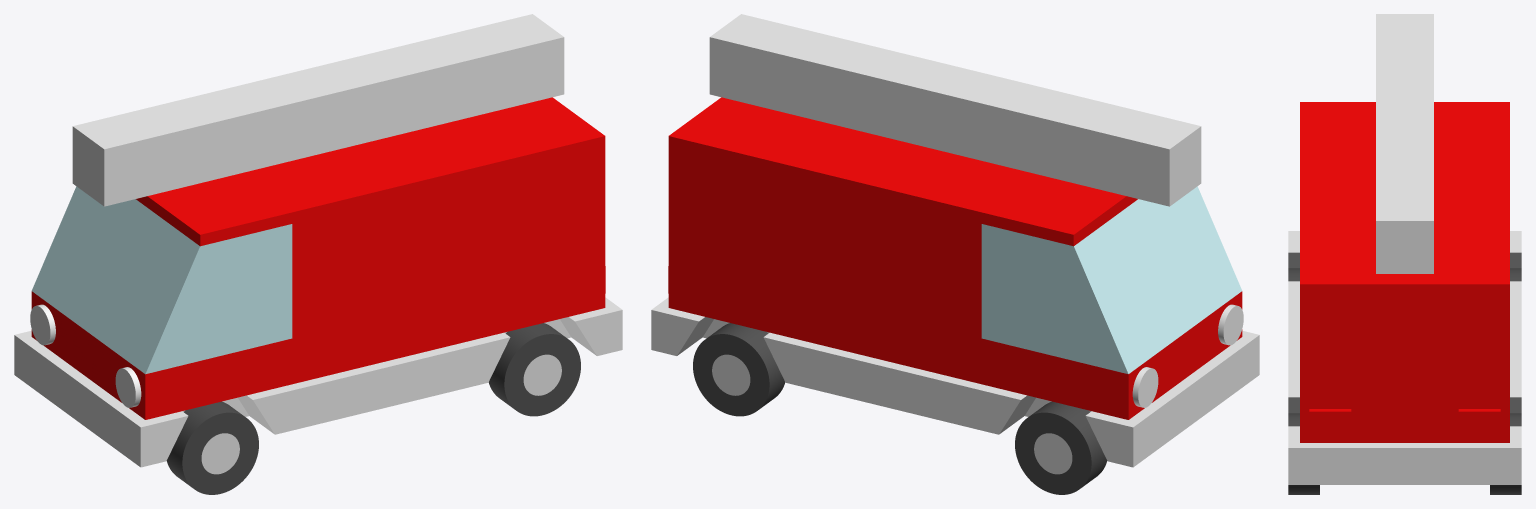
Rendered from stylized-firetruck.glb.
3 views of the same model, side by side, from view 1: azimuth 30°, elevation 25°; view 2: azimuth 150°, elevation 25°; view 3: azimuth 270°, elevation 25° (orthographic). The views are drawn at different scales.
Bounding box in the file's own units: 4.4 × 2.85 × 2.
